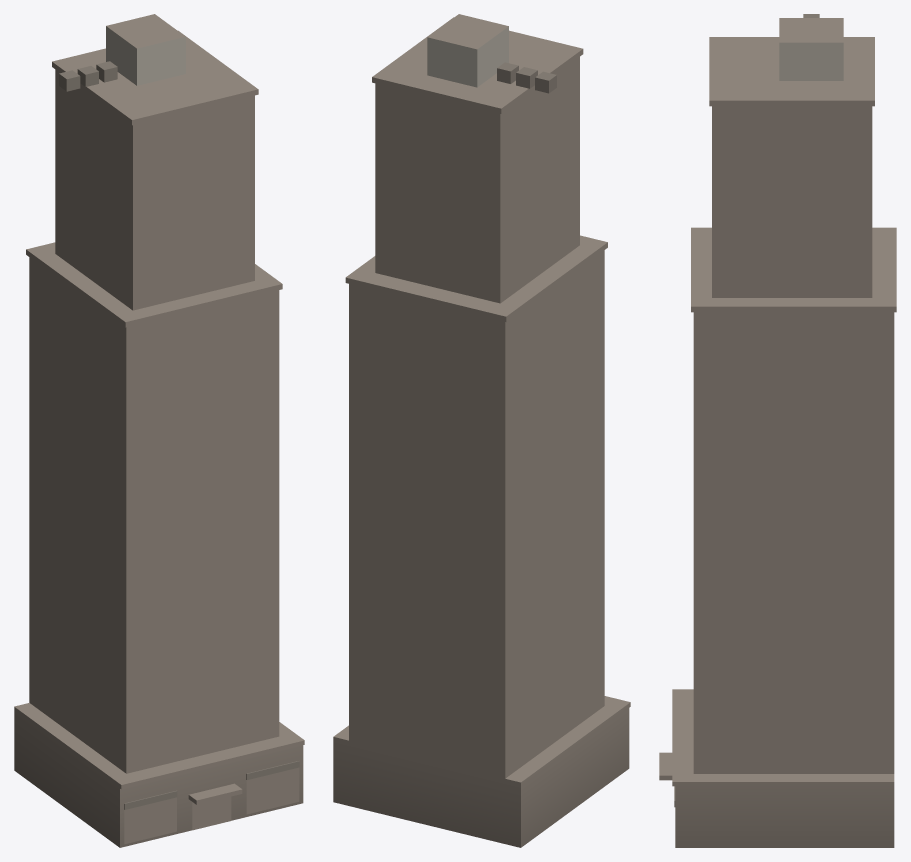
Rendered from tower_office_b.glb.
3 views of the same model, side by side, from view 1: azimuth 30°, elevation 25°; view 2: azimuth 150°, elevation 25°; view 3: azimuth 270°, elevation 25° (orthographic). The views are drawn at different scales.
Visible parts, largest first — view 1: tower_office_b; view 2: tower_office_b; view 3: tower_office_b.
Boxes of the visible parts, left/top/right/bottom form: tower_office_b: left=14, top=14, right=304, bottom=847; tower_office_b: left=333, top=14, right=630, bottom=847; tower_office_b: left=659, top=14, right=896, bottom=847.
Bounding box in the file's own units: 21.6 × 84 × 23.45.
